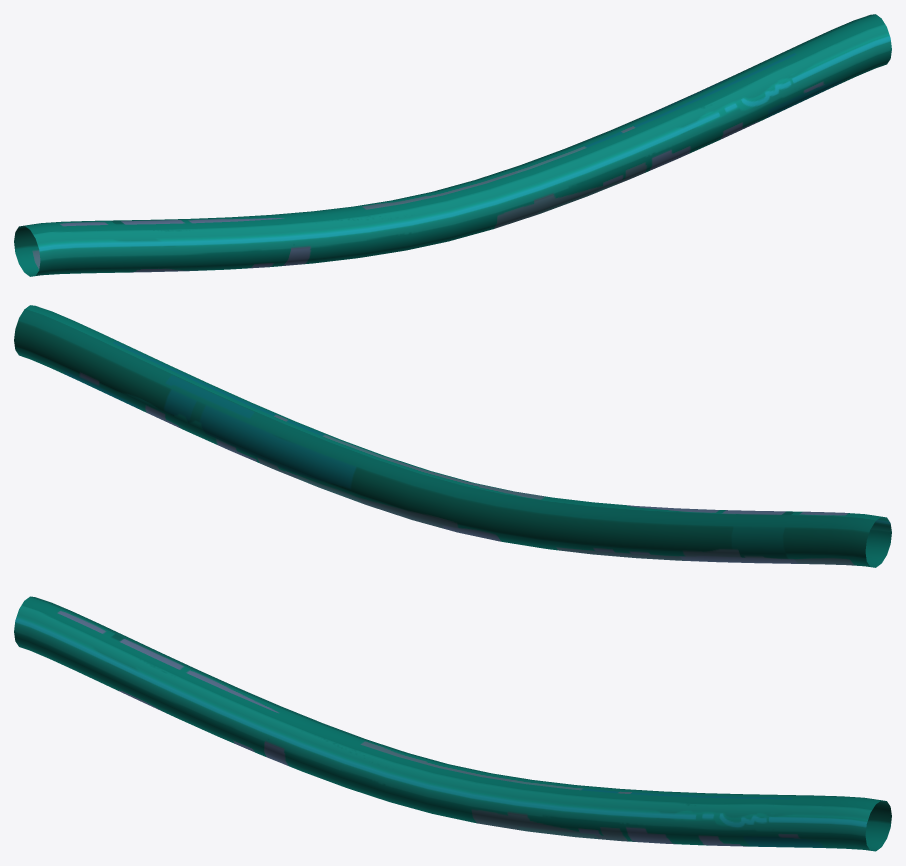
Rendered from SM_Wire_Mid_Mid.fbx.
The picture shows the model from 3 angles, top to bottom: view 1: azimuth 30°, elevation 25°; view 2: azimuth 150°, elevation 25°; view 3: azimuth 330°, elevation 25°; orthographic projection.
Visible parts, largest first — view 1: Sm_Wire_Mid_Mid; view 2: Sm_Wire_Mid_Mid; view 3: Sm_Wire_Mid_Mid.
Boxes of the visible parts, left/top/right/bottom form: Sm_Wire_Mid_Mid: left=14, top=14, right=891, bottom=276; Sm_Wire_Mid_Mid: left=14, top=305, right=891, bottom=567; Sm_Wire_Mid_Mid: left=14, top=596, right=891, bottom=851.
Size of the model in its own units: 1.93 by 0.795 by 14.74.
1 material, 1 textured.
